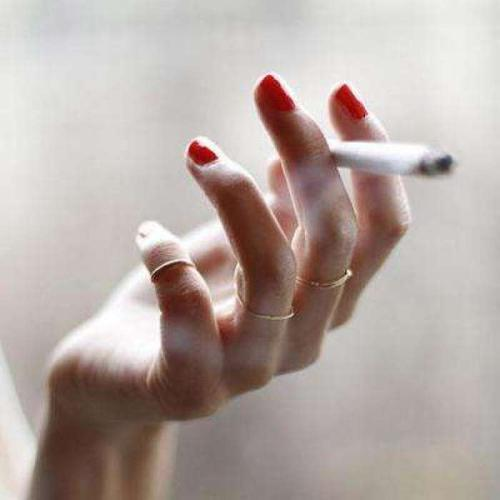smoke: (266, 115, 461, 192)
